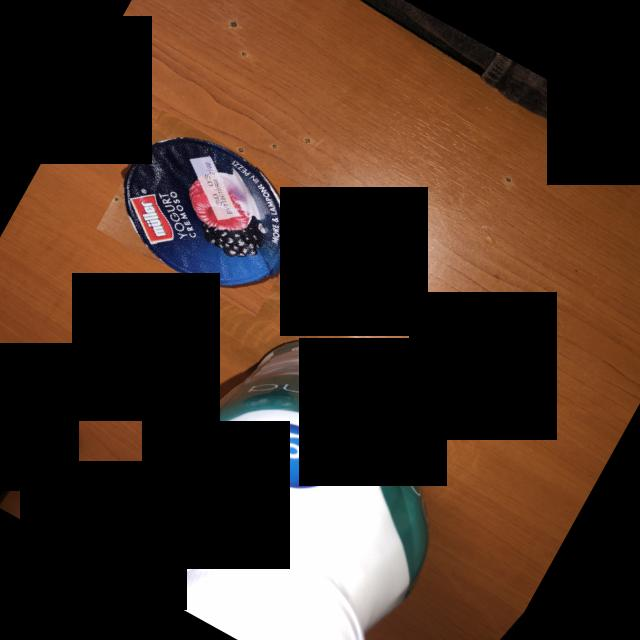yogurt: (96, 110, 321, 317)
